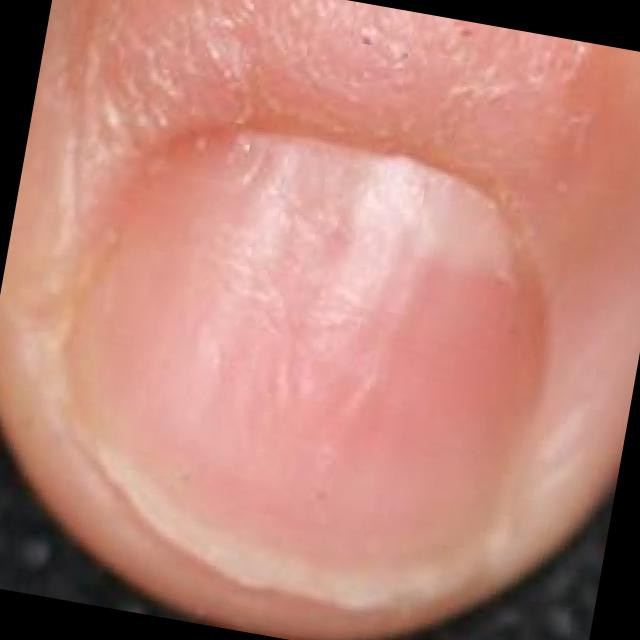Nail: (62, 128, 544, 607)
